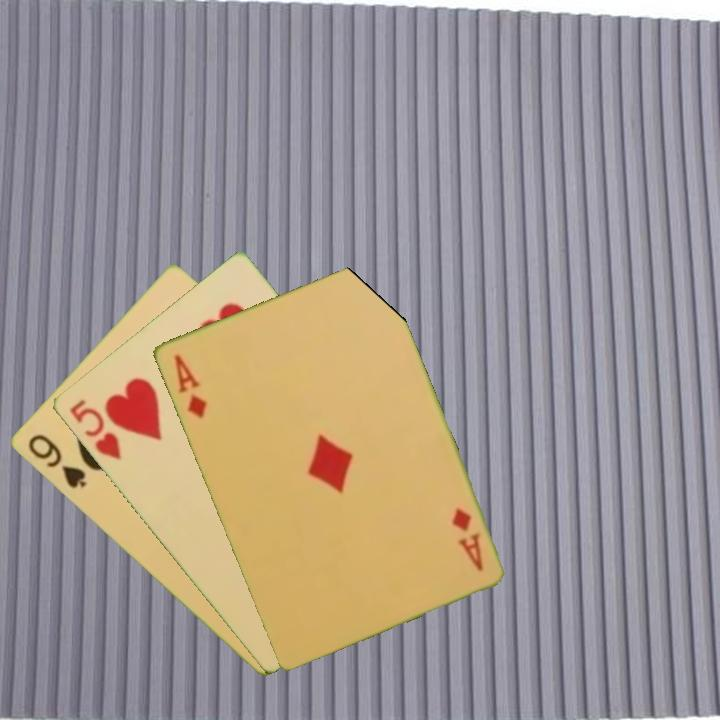5h: (65, 395, 124, 463)
9s: (23, 430, 89, 491)
Ad: (170, 350, 210, 421), (448, 504, 485, 574)
